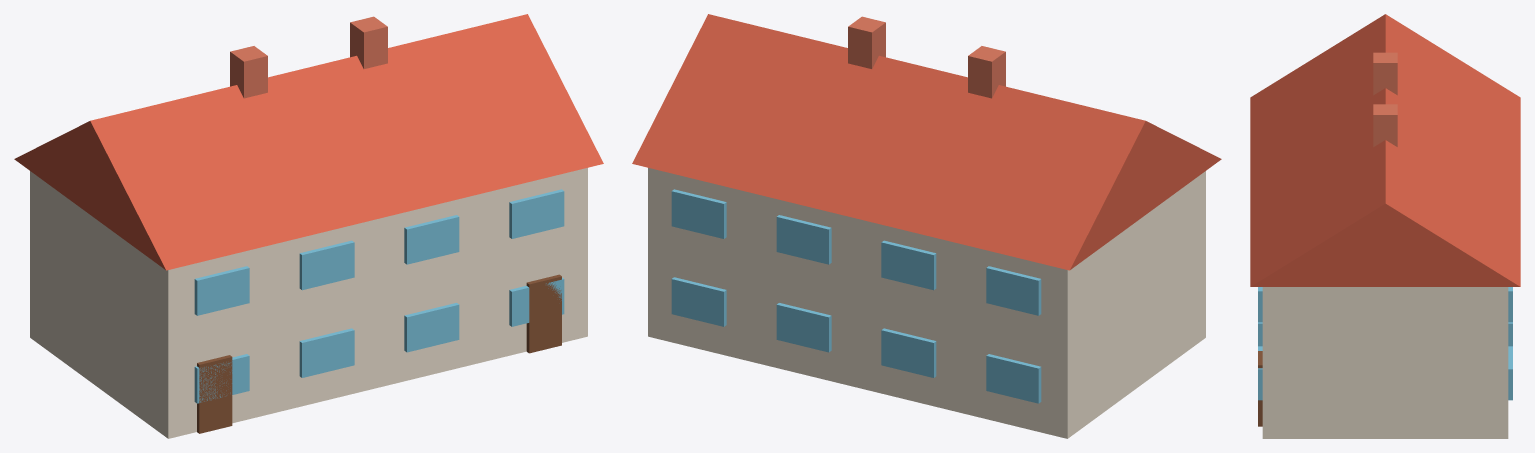
The model's file is semi_detached.glb.
3 views of the same model, side by side, from view 1: azimuth 30°, elevation 25°; view 2: azimuth 150°, elevation 25°; view 3: azimuth 270°, elevation 25° (orthographic). The views are drawn at different scales.
Parts seen in each view (by area): view 1: semi_detached_roof_red, semi_detached_wall_cream, semi_detached_window, semi_detached_door, semi_detached_brick; view 2: semi_detached_roof_red, semi_detached_wall_cream, semi_detached_window, semi_detached_brick; view 3: semi_detached_roof_red, semi_detached_wall_cream, semi_detached_brick, semi_detached_window.
Boxes of the visible parts, box(x1,y1,x2,y2) form: semi_detached_roof_red: box(14, 14, 603, 270); semi_detached_wall_cream: box(30, 168, 587, 438); semi_detached_window: box(194, 189, 564, 403); semi_detached_door: box(197, 274, 561, 433); semi_detached_brick: box(230, 16, 387, 98); semi_detached_roof_red: box(632, 14, 1221, 270); semi_detached_wall_cream: box(648, 168, 1205, 438); semi_detached_window: box(671, 189, 1041, 403); semi_detached_brick: box(848, 16, 1005, 98); semi_detached_roof_red: box(1250, 14, 1520, 286); semi_detached_wall_cream: box(1262, 287, 1508, 438); semi_detached_brick: box(1373, 52, 1397, 146); semi_detached_window: box(1258, 287, 1512, 400).
Size of the model in its own units: 14.6 by 9.5 by 8.8.
